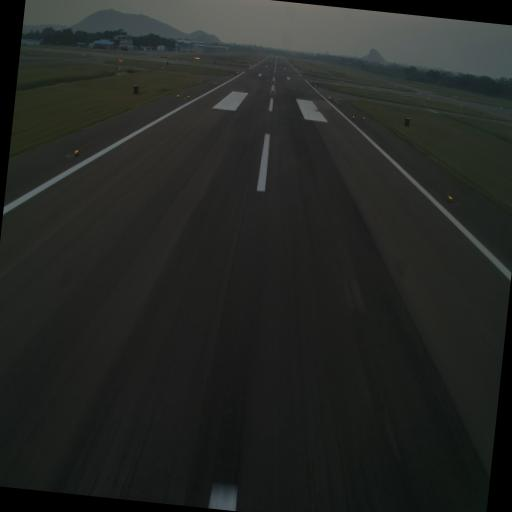on: (446, 192, 455, 205), (74, 144, 80, 158)
